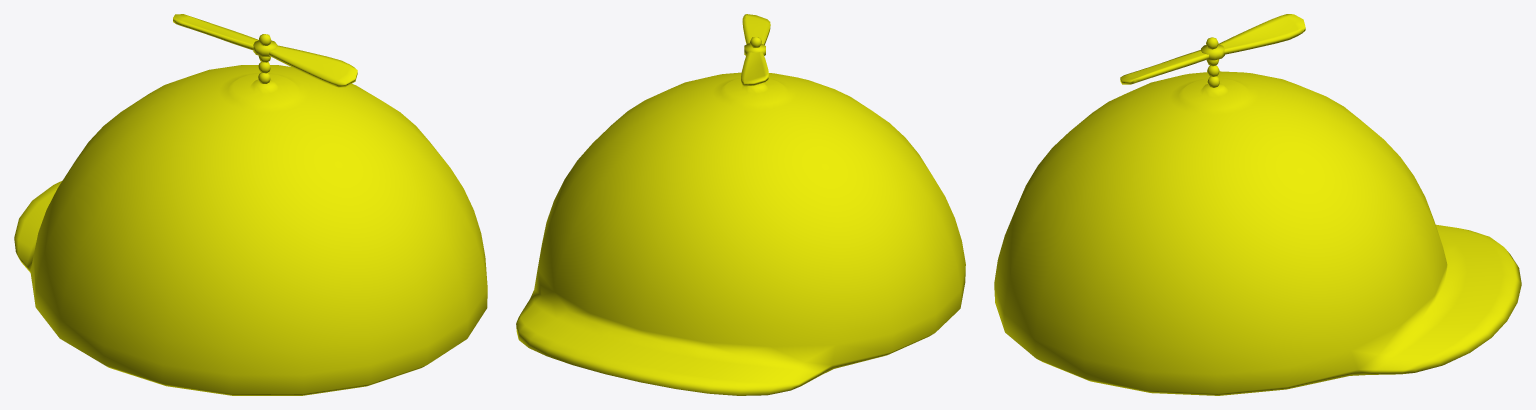
File: PropellerHat_InGame.fbx
3 views of the same model, side by side, from view 1: azimuth 30°, elevation 25°; view 2: azimuth 150°, elevation 25°; view 3: azimuth 270°, elevation 25° (orthographic). The views are drawn at different scales.
Visible parts, largest first — view 1: PropellerHat_GameModel; view 2: PropellerHat_GameModel; view 3: PropellerHat_GameModel.
Boxes of the visible parts, x1,y1,x2,y2 form: PropellerHat_GameModel: [14, 14, 487, 395]; PropellerHat_GameModel: [516, 14, 965, 395]; PropellerHat_GameModel: [994, 14, 1521, 395].
Size of the model in its own units: 1.35 by 0.89 by 1.56.
